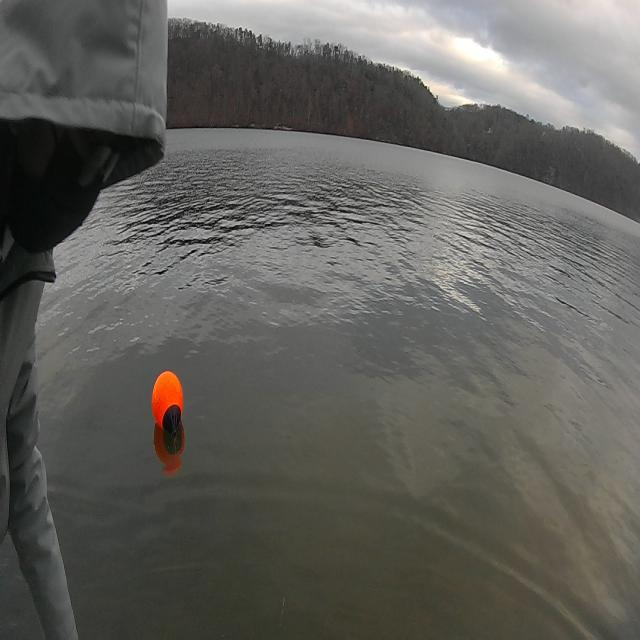Buoy: (146, 362, 190, 444)
